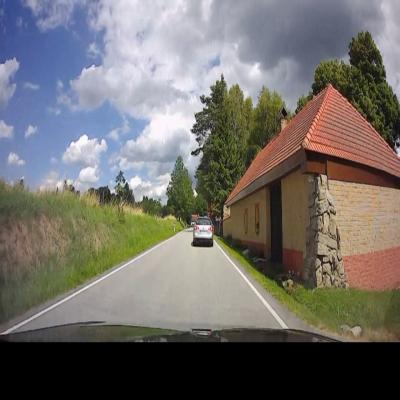clear-road: (15, 231, 281, 332)
